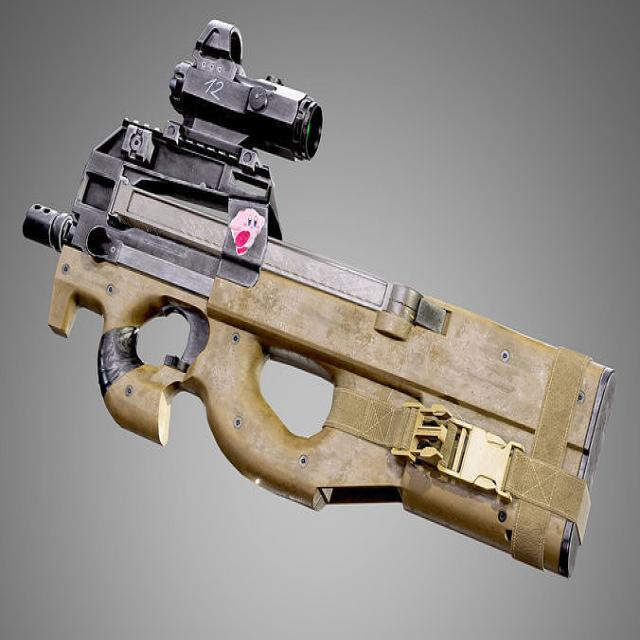SMG: (24, 23, 616, 580)
